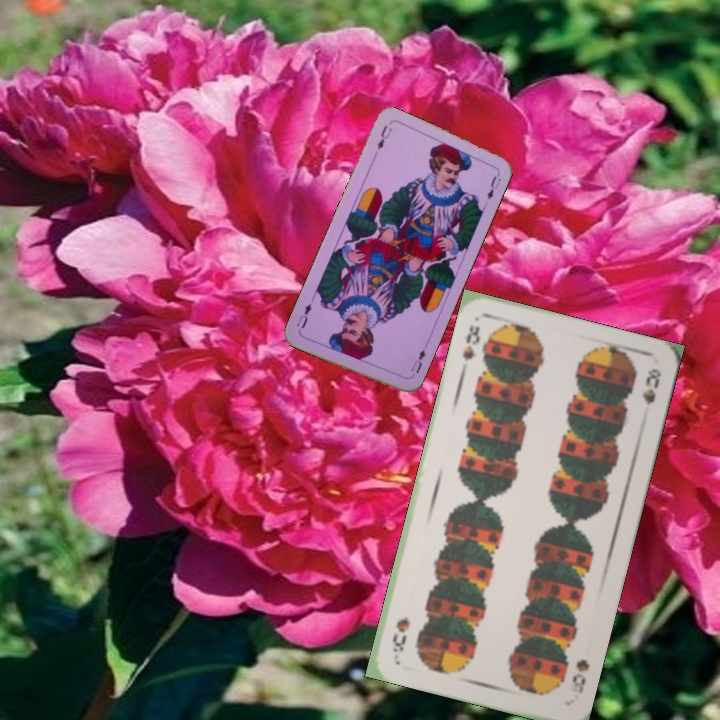EU: (406, 342, 429, 380), (373, 122, 395, 152)
S8: (458, 321, 483, 364), (567, 654, 592, 696)
